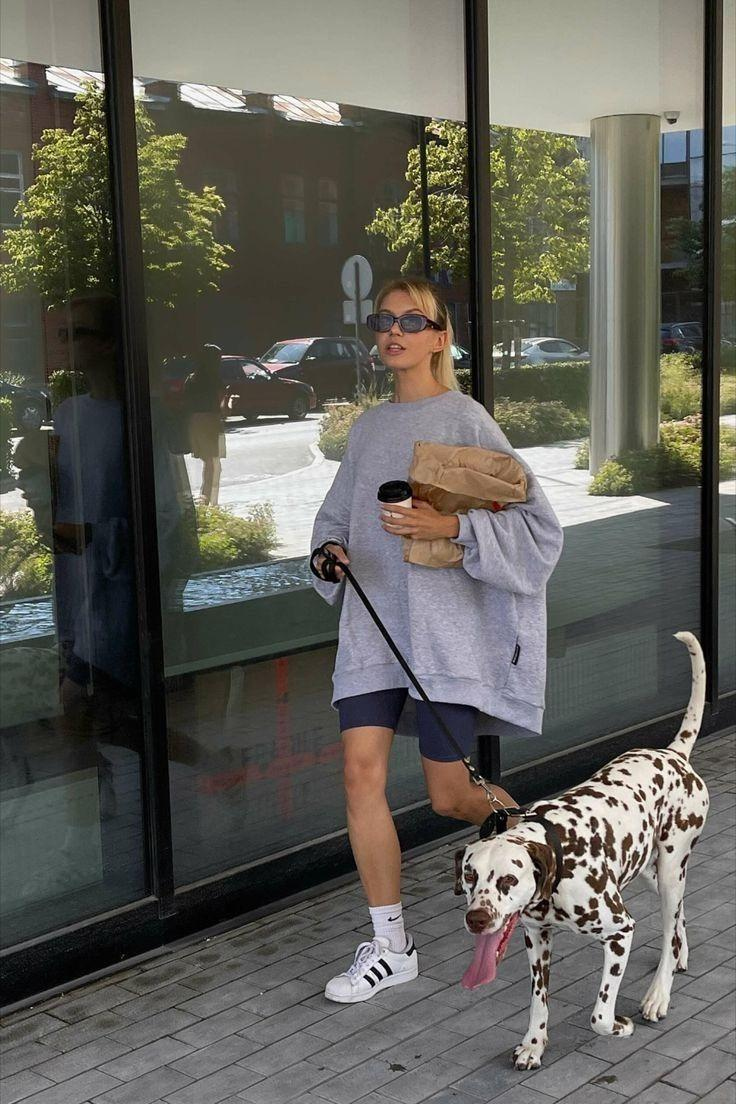adult_dog: (453, 634, 710, 1071)
non-dog: (300, 278, 566, 1005)
